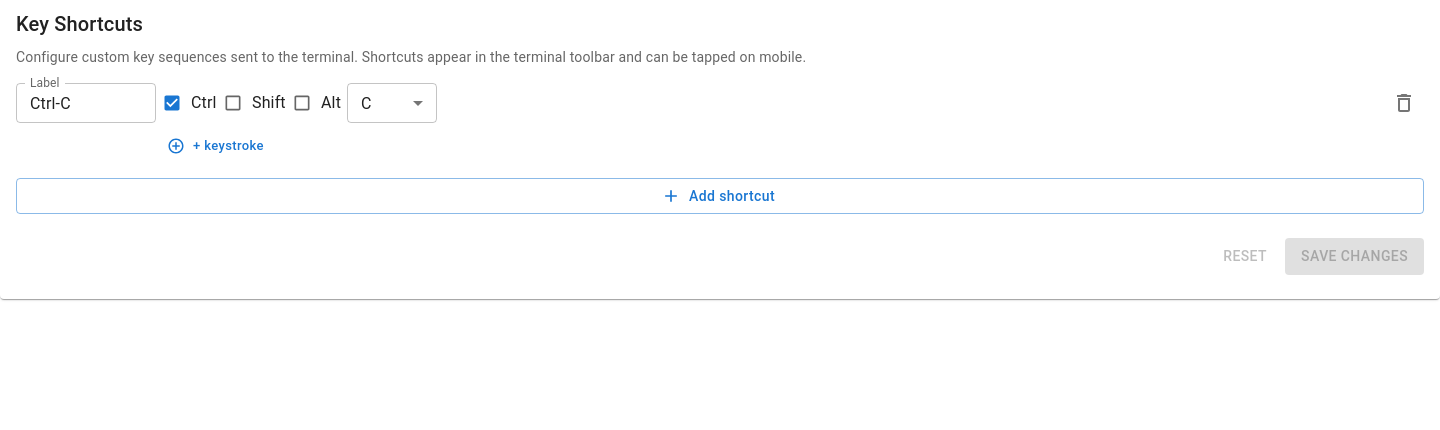
Test case: KeyShortcutsSettings › Add shortcut › new shortcut has default label "New"
The image size is (1440, 430).
What coordinates should you click on to do the following:
click the button "Add shortcut"
I would click on:
 (720, 196)
Its box is [16,178,1424,214].
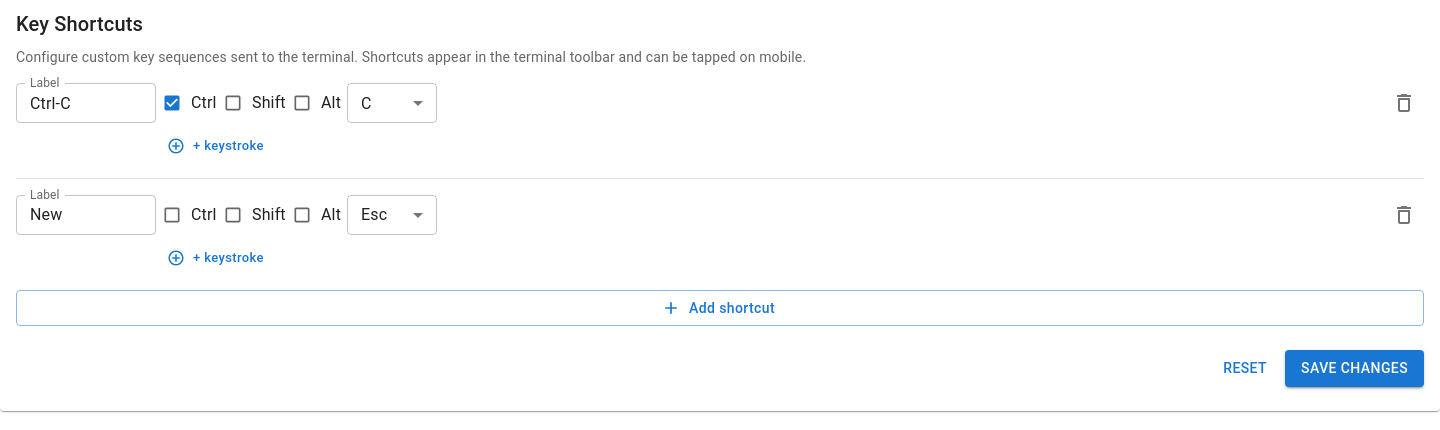
Check: the field showing "New" in the row of "Esc" is shown, box [16,195,156,235]
